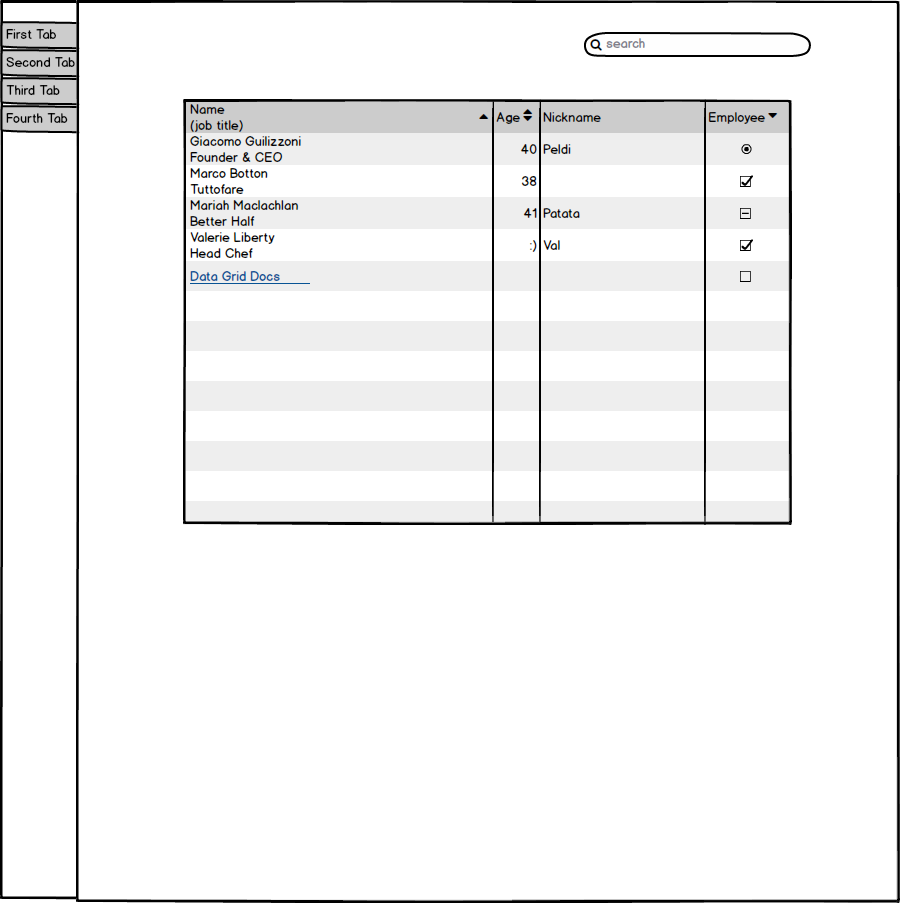search: (579, 24, 816, 65)
sidebar: (1, 19, 86, 140)
table: (174, 95, 801, 531)
